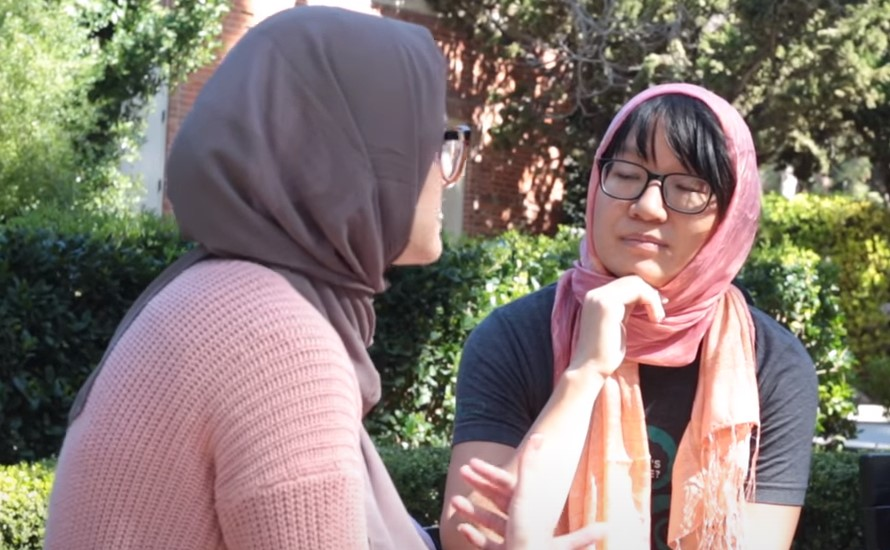face_no_mask: (582, 79, 737, 305)
